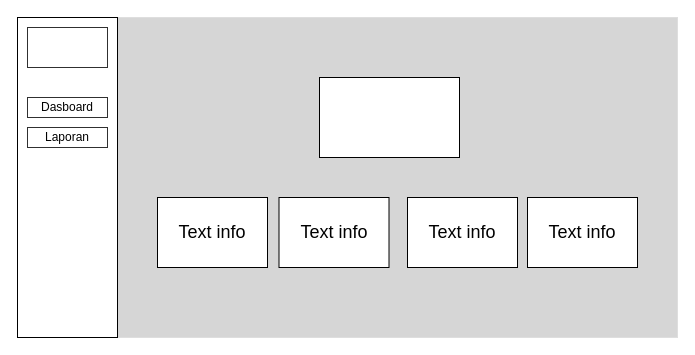
The diagram is 695 pixels wide and 355 high, and some of its shapes have lost their labels. The centre of each missing label's shape, as x and y in pixels:
"Logo" goes at (67,47).
"Text" goes at (389,117).
